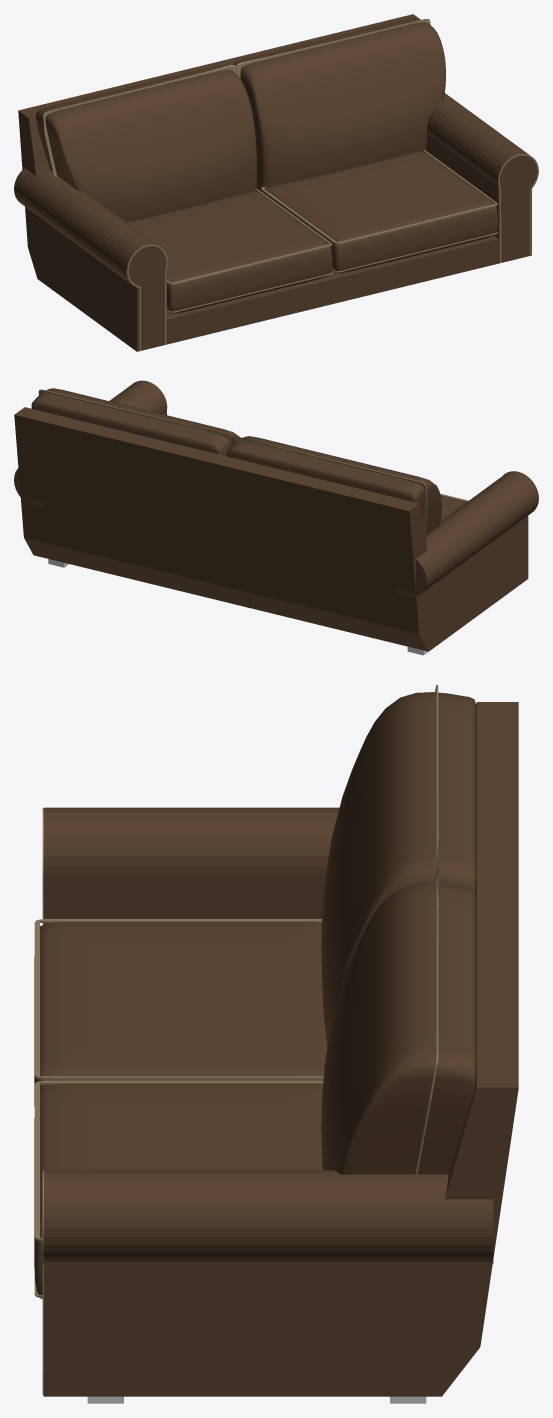
The model's file is couch22.dae.
The picture shows the model from 3 angles, top to bottom: view 1: azimuth 30°, elevation 25°; view 2: azimuth 150°, elevation 25°; view 3: azimuth 270°, elevation 25°; orthographic projection. The views are drawn at different scales.
Visible parts, largest first — view 1: couchbase, cushion_003, cushion_001, cushion_002, cushion, stitches_002, stitches_001, stitches_004, stitches_005, Circle_001, Circle; view 2: couchbase, cushion_001, cushion_003, stitches_004, stitches_005, cushion; view 3: couchbase, cushion, cushion_003, cushion_001, cushion_002, stitches_001, stitches_002, stitches_005.
Boxes of the visible parts, bbox=[...] form: couchbase: bbox=[14, 14, 537, 351]; cushion_003: bbox=[231, 18, 445, 192]; cushion_001: bbox=[36, 66, 256, 222]; cushion_002: bbox=[262, 151, 497, 273]; cushion: bbox=[127, 191, 332, 313]; stitches_002: bbox=[261, 150, 497, 272]; stitches_001: bbox=[167, 189, 332, 312]; stitches_004: bbox=[43, 65, 236, 176]; stitches_005: bbox=[236, 19, 430, 78]; Circle_001: bbox=[498, 154, 538, 263]; Circle: bbox=[127, 244, 167, 350]; couchbase: bbox=[14, 381, 538, 651]; cushion_001: bbox=[226, 436, 441, 535]; cushion_003: bbox=[31, 388, 239, 455]; stitches_004: bbox=[232, 436, 427, 535]; stitches_005: bbox=[38, 389, 232, 447]; cushion: bbox=[440, 495, 466, 521]; couchbase: bbox=[43, 702, 518, 1396]; cushion: bbox=[34, 922, 327, 1106]; cushion_003: bbox=[321, 883, 476, 1174]; cushion_001: bbox=[321, 692, 476, 1046]; cushion_002: bbox=[34, 1084, 322, 1298]; stitches_001: bbox=[34, 919, 323, 1079]; stitches_002: bbox=[34, 1080, 323, 1297]; stitches_005: bbox=[415, 872, 438, 1178].
Bounding box in the file's own units: 1.98 × 1.01 × 0.8109.
